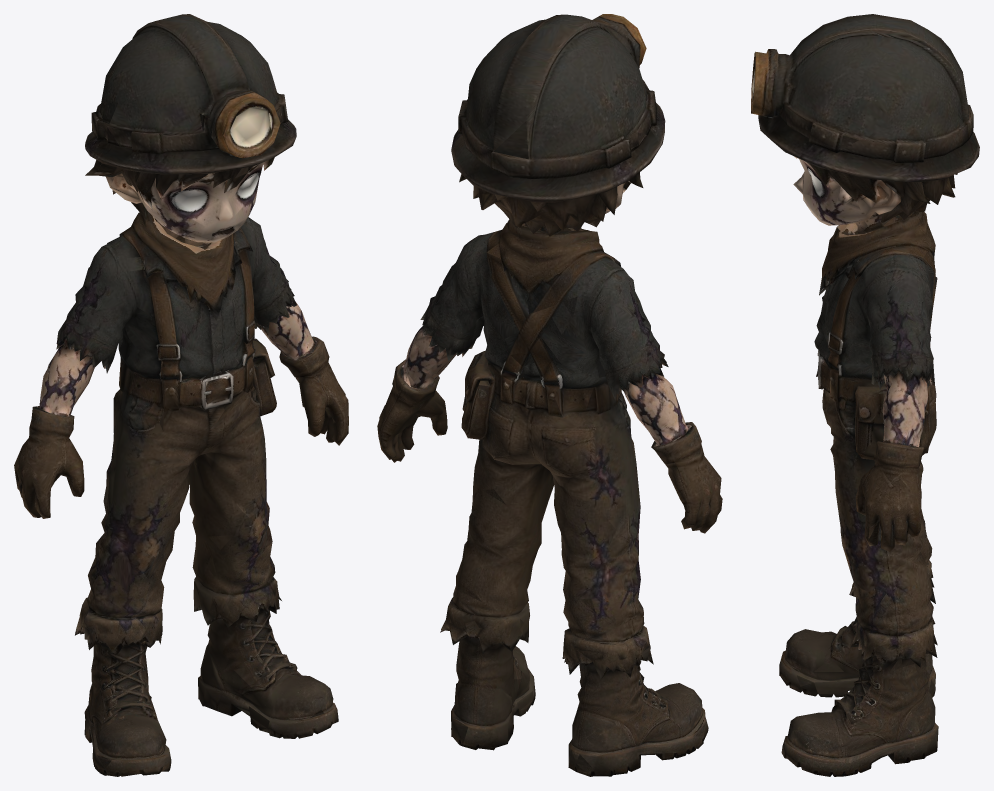
The model's file is minero_corrupto.glb.
3 views of the same model, side by side, from view 1: azimuth 30°, elevation 25°; view 2: azimuth 150°, elevation 25°; view 3: azimuth 270°, elevation 25° (orthographic).
Parts seen in each view (by area): view 1: minero_corrupto; view 2: minero_corrupto; view 3: minero_corrupto.
Part boxes in pixels (x1,y1,x2,y2): minero_corrupto: [14, 14, 348, 776]; minero_corrupto: [377, 14, 722, 776]; minero_corrupto: [751, 14, 979, 776].
Bounding box in the file's own units: 0.8669 × 1.8 × 0.532.
1 material, 1 textured.
